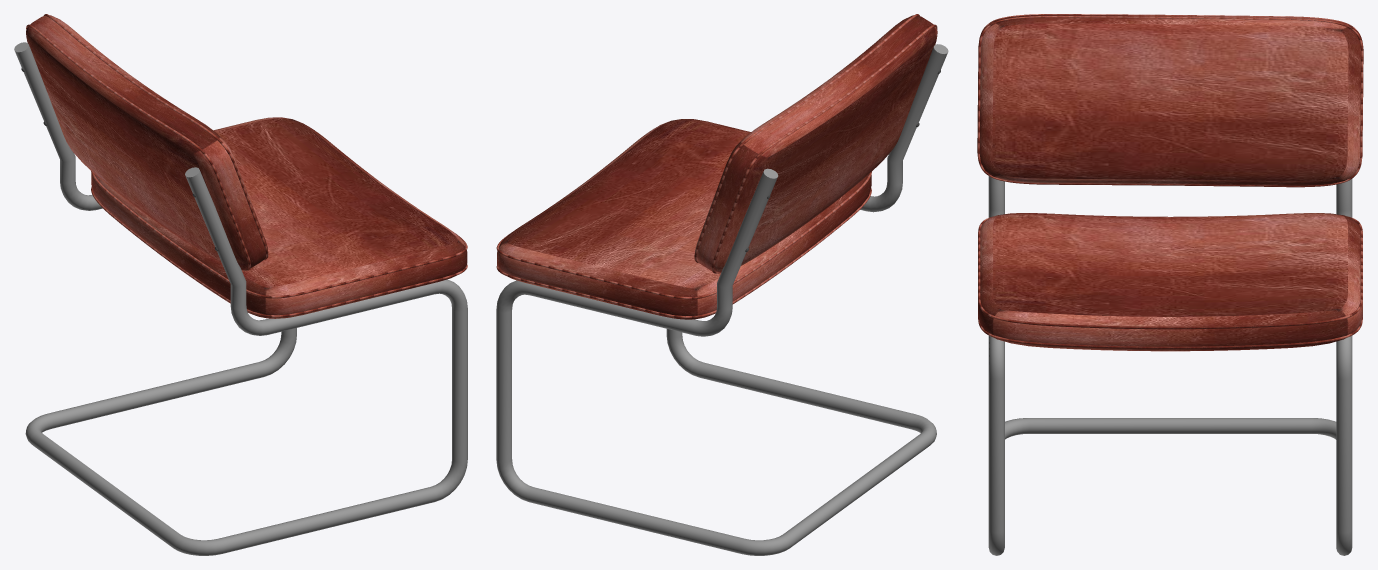
File: chair.FBX
3 views of the same model, side by side, from view 1: azimuth 30°, elevation 25°; view 2: azimuth 150°, elevation 25°; view 3: azimuth 270°, elevation 25° (orthographic). The views are drawn at different scales.
Visible parts, largest first — view 1: istuin, istuin001, runko; view 2: istuin, istuin001, runko; view 3: istuin001, istuin, runko.
Part boxes in pixels (x1=…): istuin: x1=91, y1=117, x2=467, y2=318; istuin001: x1=26, y1=14, x2=268, y2=270; runko: x1=15, y1=46, x2=467, y2=555; istuin: x1=496, y1=119, x2=871, y2=319; istuin001: x1=694, y1=14, x2=937, y2=273; runko: x1=496, y1=48, x2=947, y2=555; istuin001: x1=977, y1=14, x2=1363, y2=187; istuin: x1=978, y1=213, x2=1362, y2=351; runko: x1=988, y1=176, x2=1352, y2=555.
Bounding box in the file's own units: 20.77 × 28.9 × 23.69.
4 materials, 2 textured.
